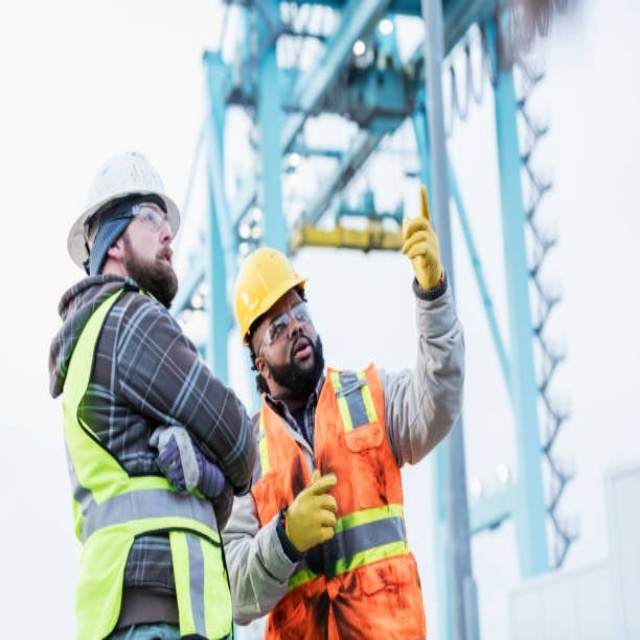Gafas: (258, 295, 310, 359), (119, 202, 177, 235)
Guantes: (152, 424, 226, 501), (281, 469, 340, 556), (401, 186, 444, 291)
Sin_mascara: (284, 328, 319, 373), (142, 240, 177, 279)
